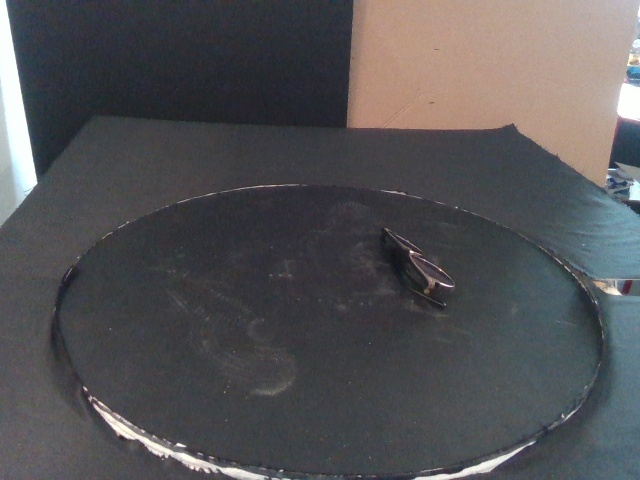glasses: (378, 226, 457, 310)
